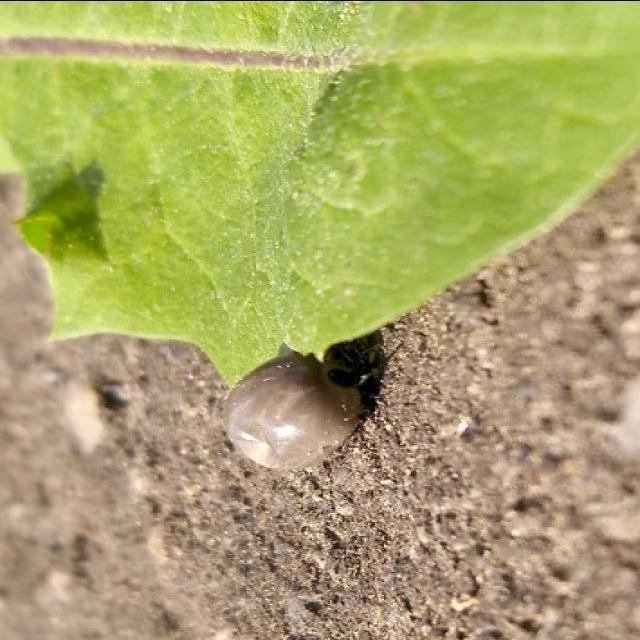Ixodes Ricinus-F-Fed: (227, 352, 370, 472)
